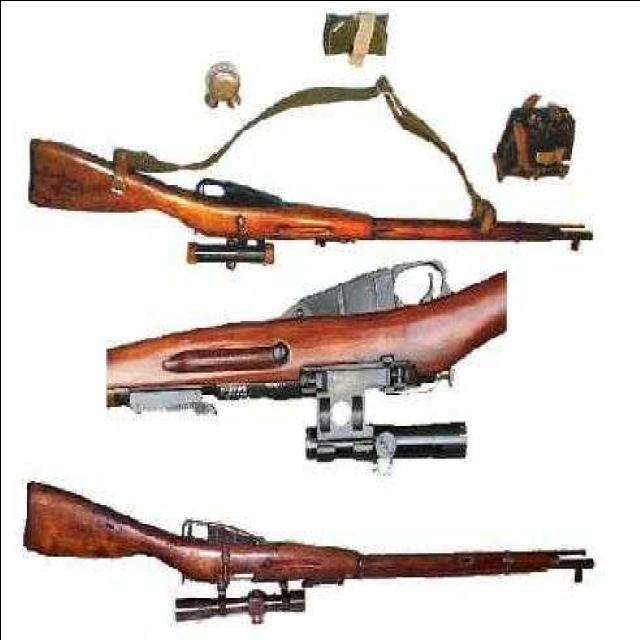heavyweapon: (27, 457, 603, 631), (17, 125, 618, 282)
